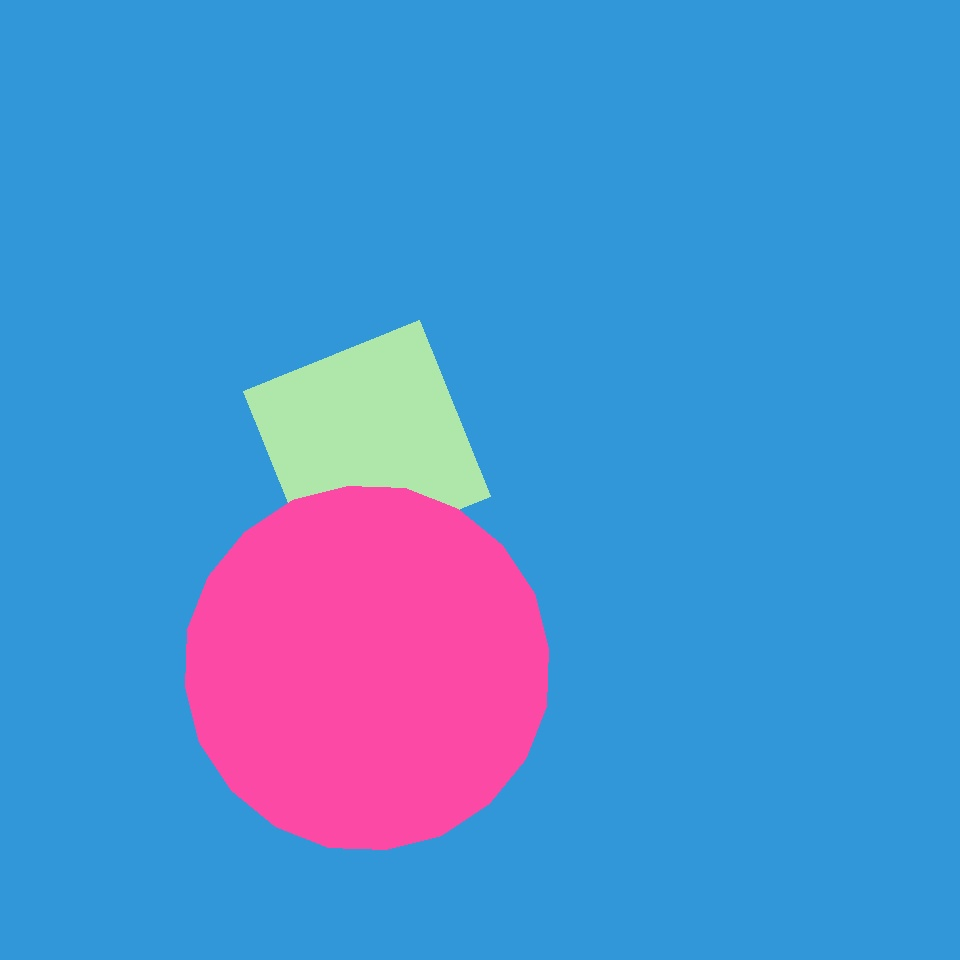circle: (280, 503, 538, 768), (738, 643, 932, 812)
square: (414, 105, 681, 372), (244, 320, 490, 568), (732, 272, 934, 473)
triangle: (185, 486, 548, 850), (345, 727, 516, 898)
